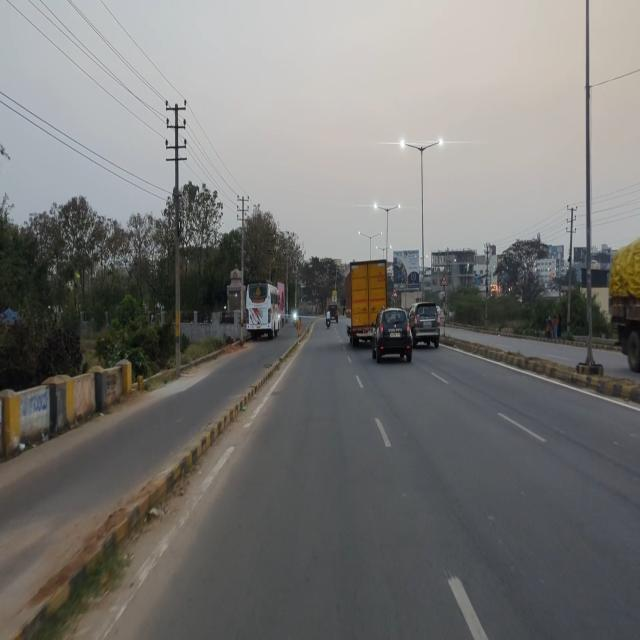bien_cam: (439, 274, 448, 286), (392, 287, 398, 299)
